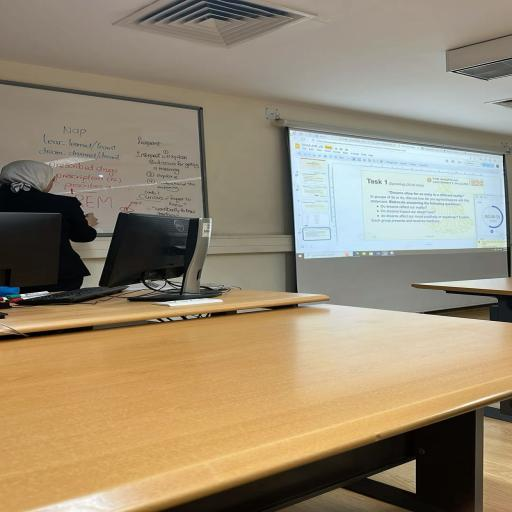laptop: (0, 161, 97, 292)
stroller: (0, 306, 511, 511), (3, 290, 329, 333), (412, 278, 511, 322)
